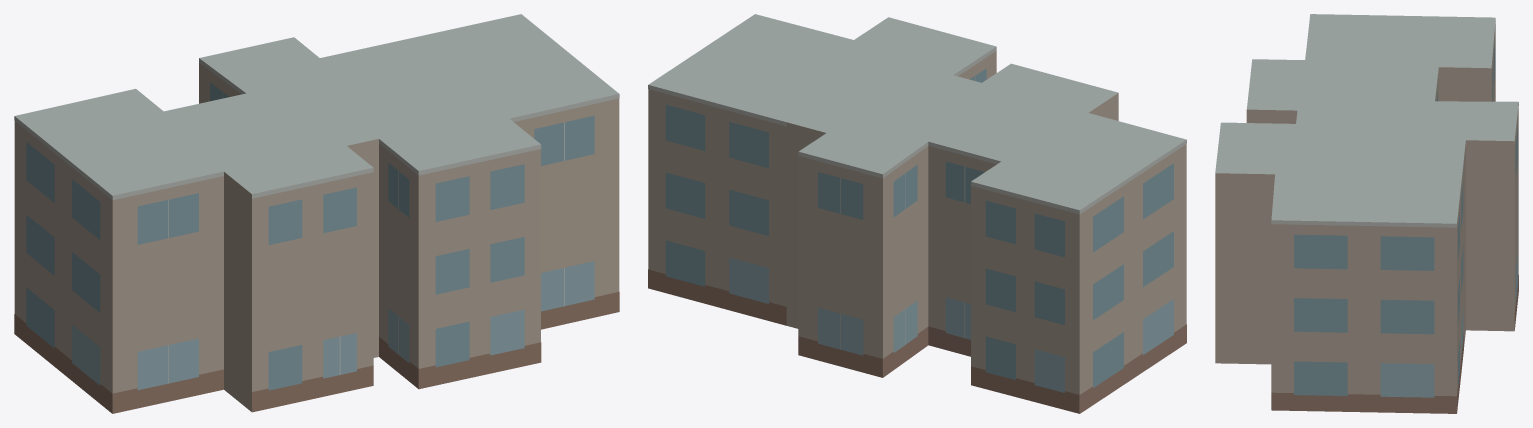
File: survey-upis-32894962.glb
The picture shows the model from 3 angles, left to right: view 1: azimuth 30°, elevation 25°; view 2: azimuth 150°, elevation 25°; view 3: azimuth 270°, elevation 25°; orthographic projection. The views are drawn at different scales.
Parts seen in each view (by area): view 1: survey-upis-32894962.tmp; view 2: survey-upis-32894962.tmp; view 3: survey-upis-32894962.tmp.
Boxes of the visible parts, box(x1,y1,x2,y2) form: survey-upis-32894962.tmp: box(14, 14, 619, 413); survey-upis-32894962.tmp: box(648, 14, 1186, 413); survey-upis-32894962.tmp: box(1215, 14, 1518, 413).
Size of the model in its own units: 28.16 by 11.9 by 17.23.
